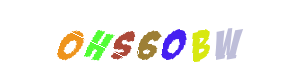0: (30, 0, 110, 80), (133, 0, 213, 80)
6: (100, 0, 180, 80)
B: (160, 0, 240, 80)
H: (58, 0, 138, 80)
S: (96, 0, 176, 80)
W: (162, 0, 242, 80)
